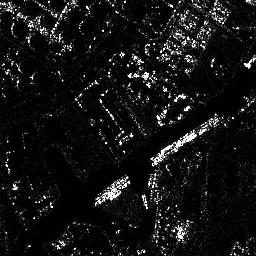ship: (92, 173, 128, 205)
